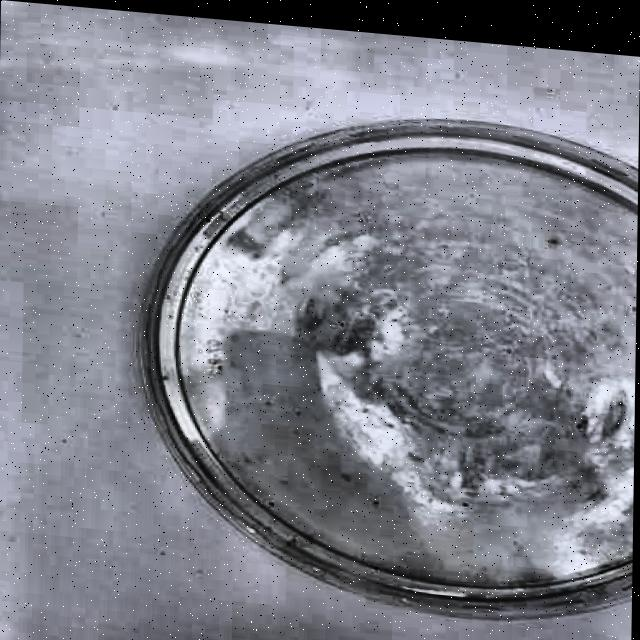plastic: (133, 86, 639, 635)
